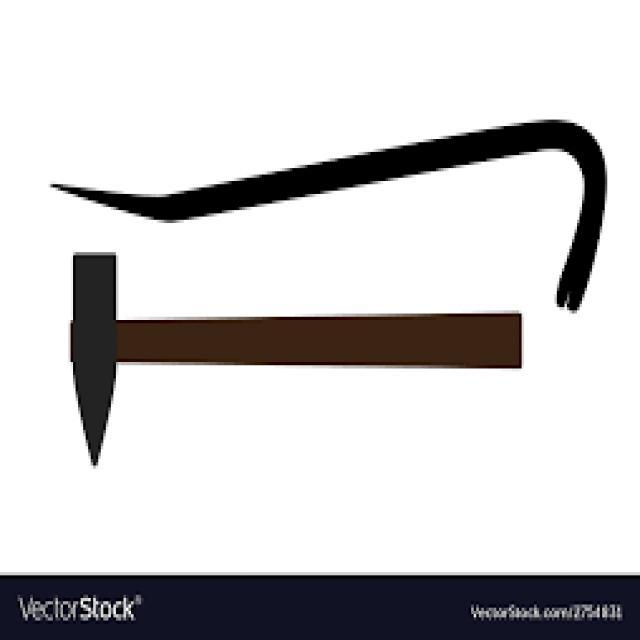hammer: (54, 240, 538, 474)
